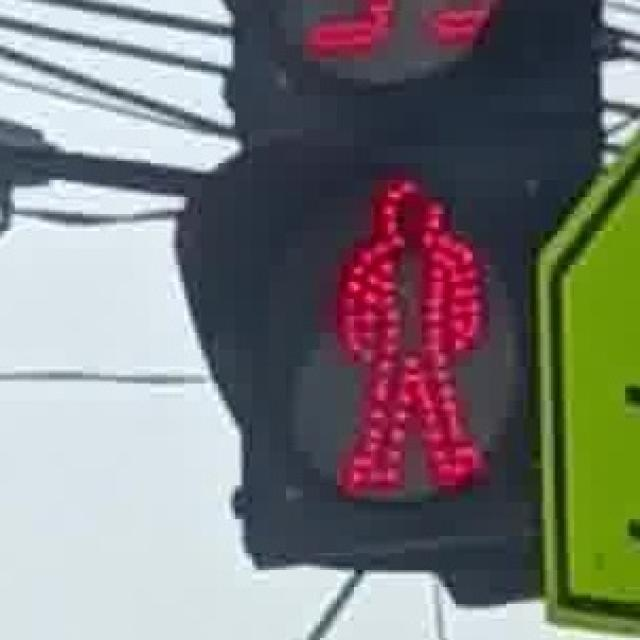red-light: (296, 155, 506, 511)
